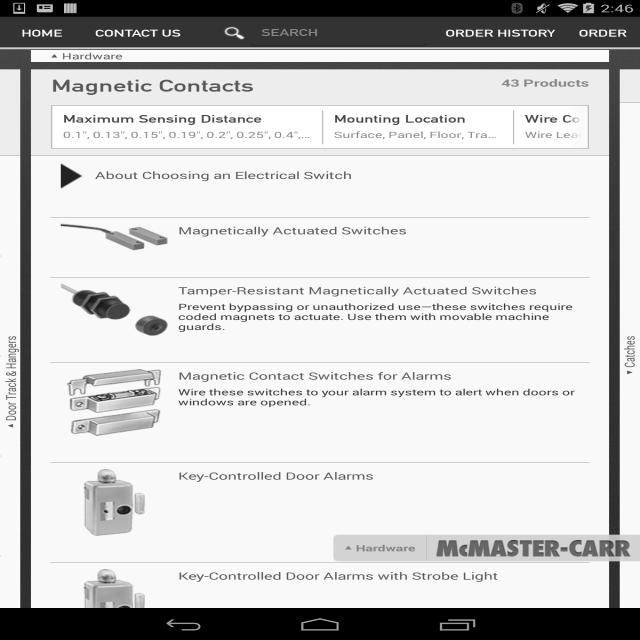EditText: (253, 20, 424, 44)
ImageView: (61, 369, 167, 436), (61, 469, 167, 536), (61, 569, 167, 636), (426, 534, 640, 561), (61, 284, 167, 336), (61, 224, 167, 250), (563, 106, 592, 148), (61, 162, 84, 190), (217, 26, 251, 40), (426, 535, 427, 561)
TextView: (178, 300, 579, 332), (620, 103, 639, 608), (178, 386, 579, 408), (1, 156, 20, 608), (51, 76, 411, 96), (50, 50, 590, 62), (178, 284, 541, 300), (178, 569, 502, 586), (95, 162, 352, 182), (178, 369, 456, 386), (178, 223, 411, 240), (63, 106, 262, 125), (444, 17, 554, 50), (178, 469, 378, 486), (63, 128, 312, 140), (94, 17, 181, 50), (0, 17, 84, 50), (334, 106, 465, 125), (333, 535, 426, 561), (525, 106, 640, 125), (334, 128, 503, 140), (576, 17, 629, 50), (525, 128, 640, 140), (501, 76, 589, 90), (639, 176, 640, 188)
